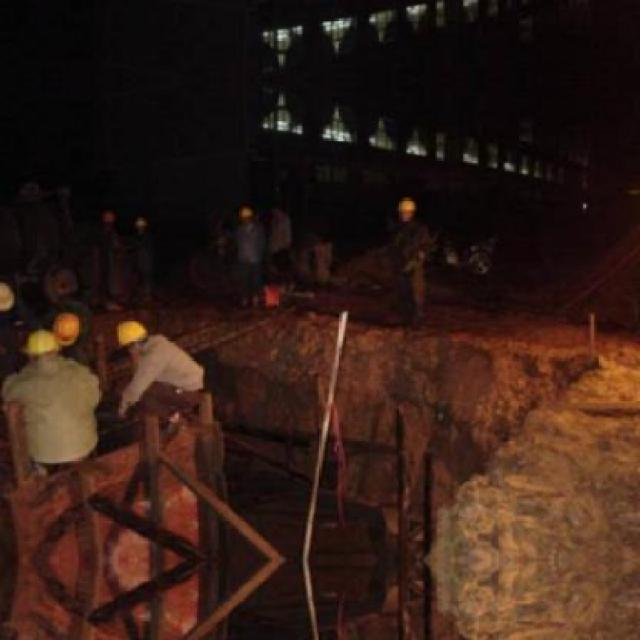con casco: (112, 314, 182, 361), (18, 324, 62, 370), (54, 297, 87, 352)
